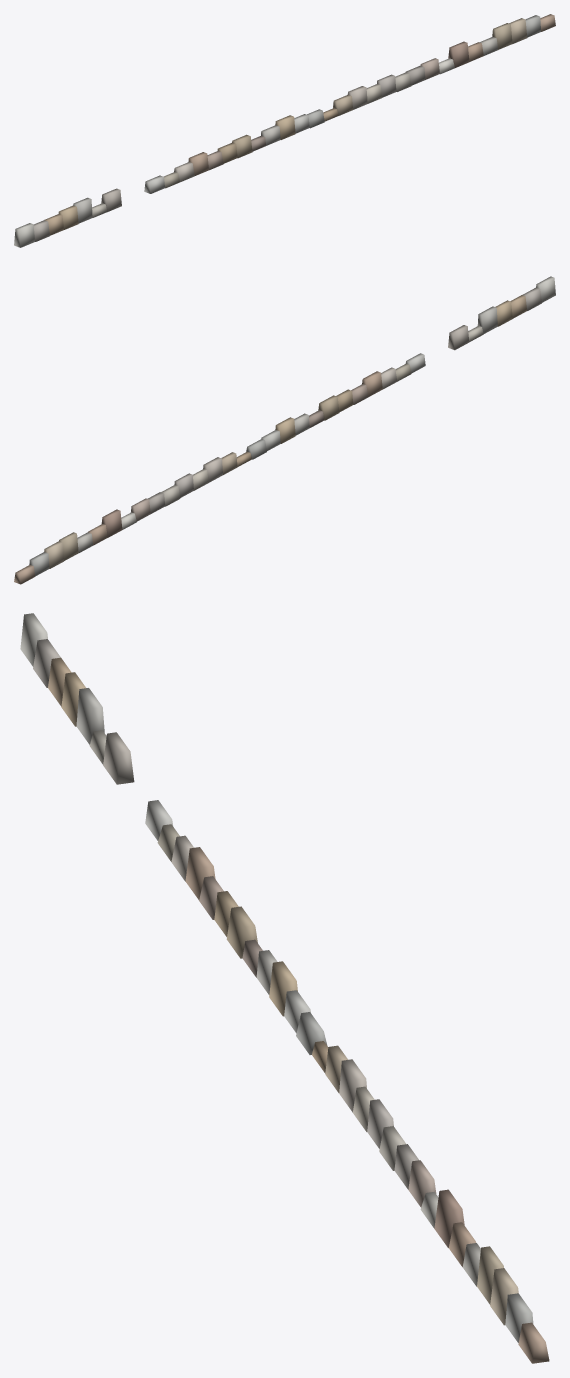
The model's file is farm_-2_17_collision.glb.
3 views of the same model, one above another, from view 1: azimuth 30°, elevation 25°; view 2: azimuth 210°, elevation 25°; view 3: azimuth 270°, elevation 25° (orthographic). The views are drawn at different scales.
Parts seen in each view (by area): view 1: geometry_0; view 2: geometry_0; view 3: geometry_0.
Part boxes in pixels (x1=…): geometry_0: x1=14, y1=14, x2=555, y2=247; geometry_0: x1=14, y1=276, x2=555, y2=584; geometry_0: x1=20, y1=613, x2=549, y2=1363.
Bounding box in the file's own units: 56.2 × 4.09 × 19.34.
